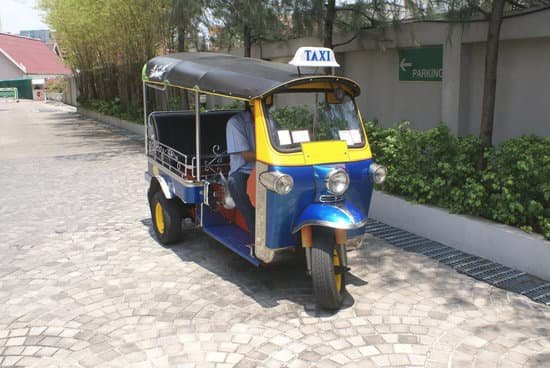threewheel: (141, 47, 388, 310)
